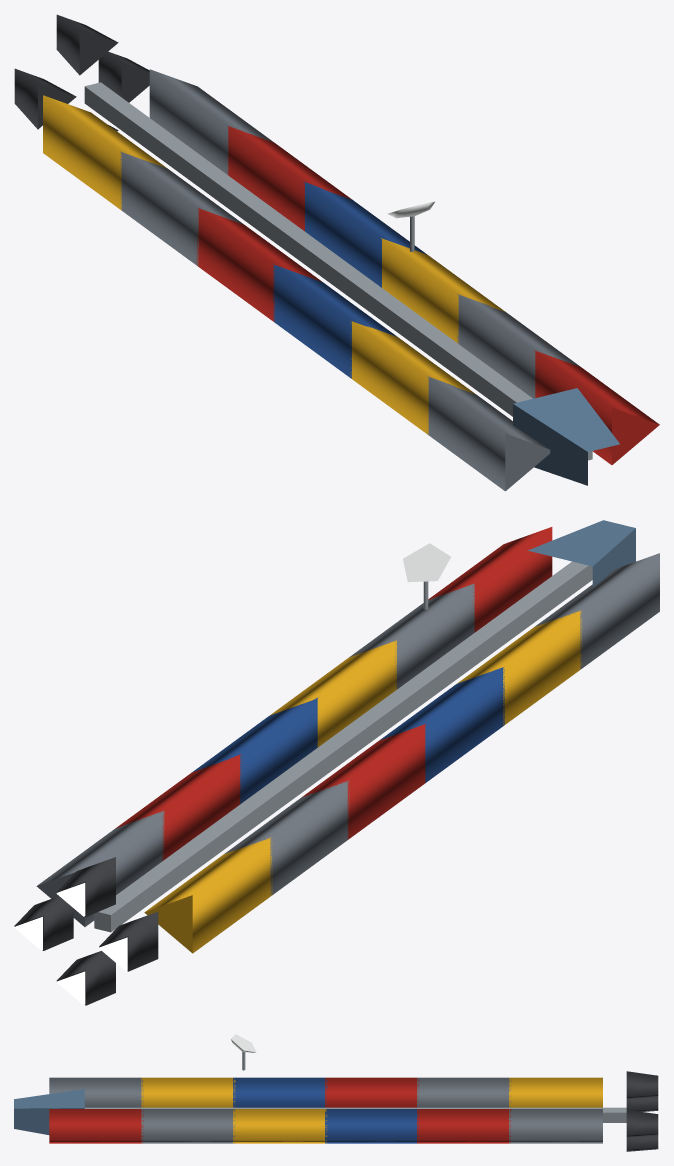
The model's file is space_ship_logistics_mk6_lod2.glb.
3 renders of one model, top to bottom at view 1: azimuth 30°, elevation 25°; view 2: azimuth 150°, elevation 25°; view 3: azimuth 270°, elevation 25°, orthographic. The views are drawn at different scales.
Visible parts, largest first — view 1: body, pod_5_0, pod_0_0, pod_3_0, pod_1_0, pod_2_0, pod_4_0, pod_0_1, pod_4_1, pod_1_1, pod_3_1, pod_2_1 (+4 smaller); view 2: body, pod_0_0, pod_3_0, pod_5_0, pod_2_0, pod_1_0, pod_4_0, pod_3_1, pod_1_1, pod_4_1, pod_2_1, pod_5_1 (+6 smaller); view 3: body, pod_0_1, pod_5_1, pod_1_1, pod_4_1, pod_3_1, pod_2_1, pod_0_0, pod_4_0, pod_2_0, pod_1_0, pod_3_0 (+6 smaller).
Part boxes in pixels (x1,y1,x2,y2): body: (84, 82, 619, 485); pod_5_0: (427, 376, 550, 491); pod_0_0: (43, 95, 167, 210); pod_3_0: (273, 264, 396, 378); pod_1_0: (120, 151, 243, 266); pod_2_0: (196, 208, 321, 322); pod_4_0: (350, 321, 475, 434); pod_0_1: (149, 69, 274, 174); pod_4_1: (457, 294, 580, 398); pod_1_1: (227, 125, 352, 231); pod_3_1: (381, 238, 505, 343); pod_2_1: (303, 182, 426, 287); body: (94, 520, 635, 932); pod_0_0: (144, 837, 272, 953); pod_3_0: (379, 667, 504, 782); pod_5_0: (535, 553, 659, 669); pod_2_0: (301, 723, 426, 839); pod_1_0: (224, 780, 349, 895); pod_4_0: (457, 610, 582, 725); pod_3_1: (270, 640, 396, 747); pod_1_1: (115, 754, 241, 860); pod_4_1: (349, 583, 474, 689); pod_2_1: (192, 697, 318, 804); pod_5_1: (428, 527, 552, 632); body: (14, 1089, 626, 1134); pod_0_1: (509, 1109, 602, 1143); pod_5_1: (49, 1109, 143, 1143); pod_1_1: (417, 1109, 511, 1143); pod_4_1: (141, 1109, 235, 1143); pod_3_1: (233, 1109, 327, 1143); pod_2_1: (325, 1109, 419, 1143); pod_0_0: (509, 1077, 602, 1107); pod_4_0: (141, 1077, 235, 1107); pod_2_0: (325, 1077, 419, 1107); pod_1_0: (417, 1077, 511, 1107); pod_3_0: (233, 1077, 327, 1107).
Bounding box in the file's own units: 7.55 × 9.25 × 45.62.
